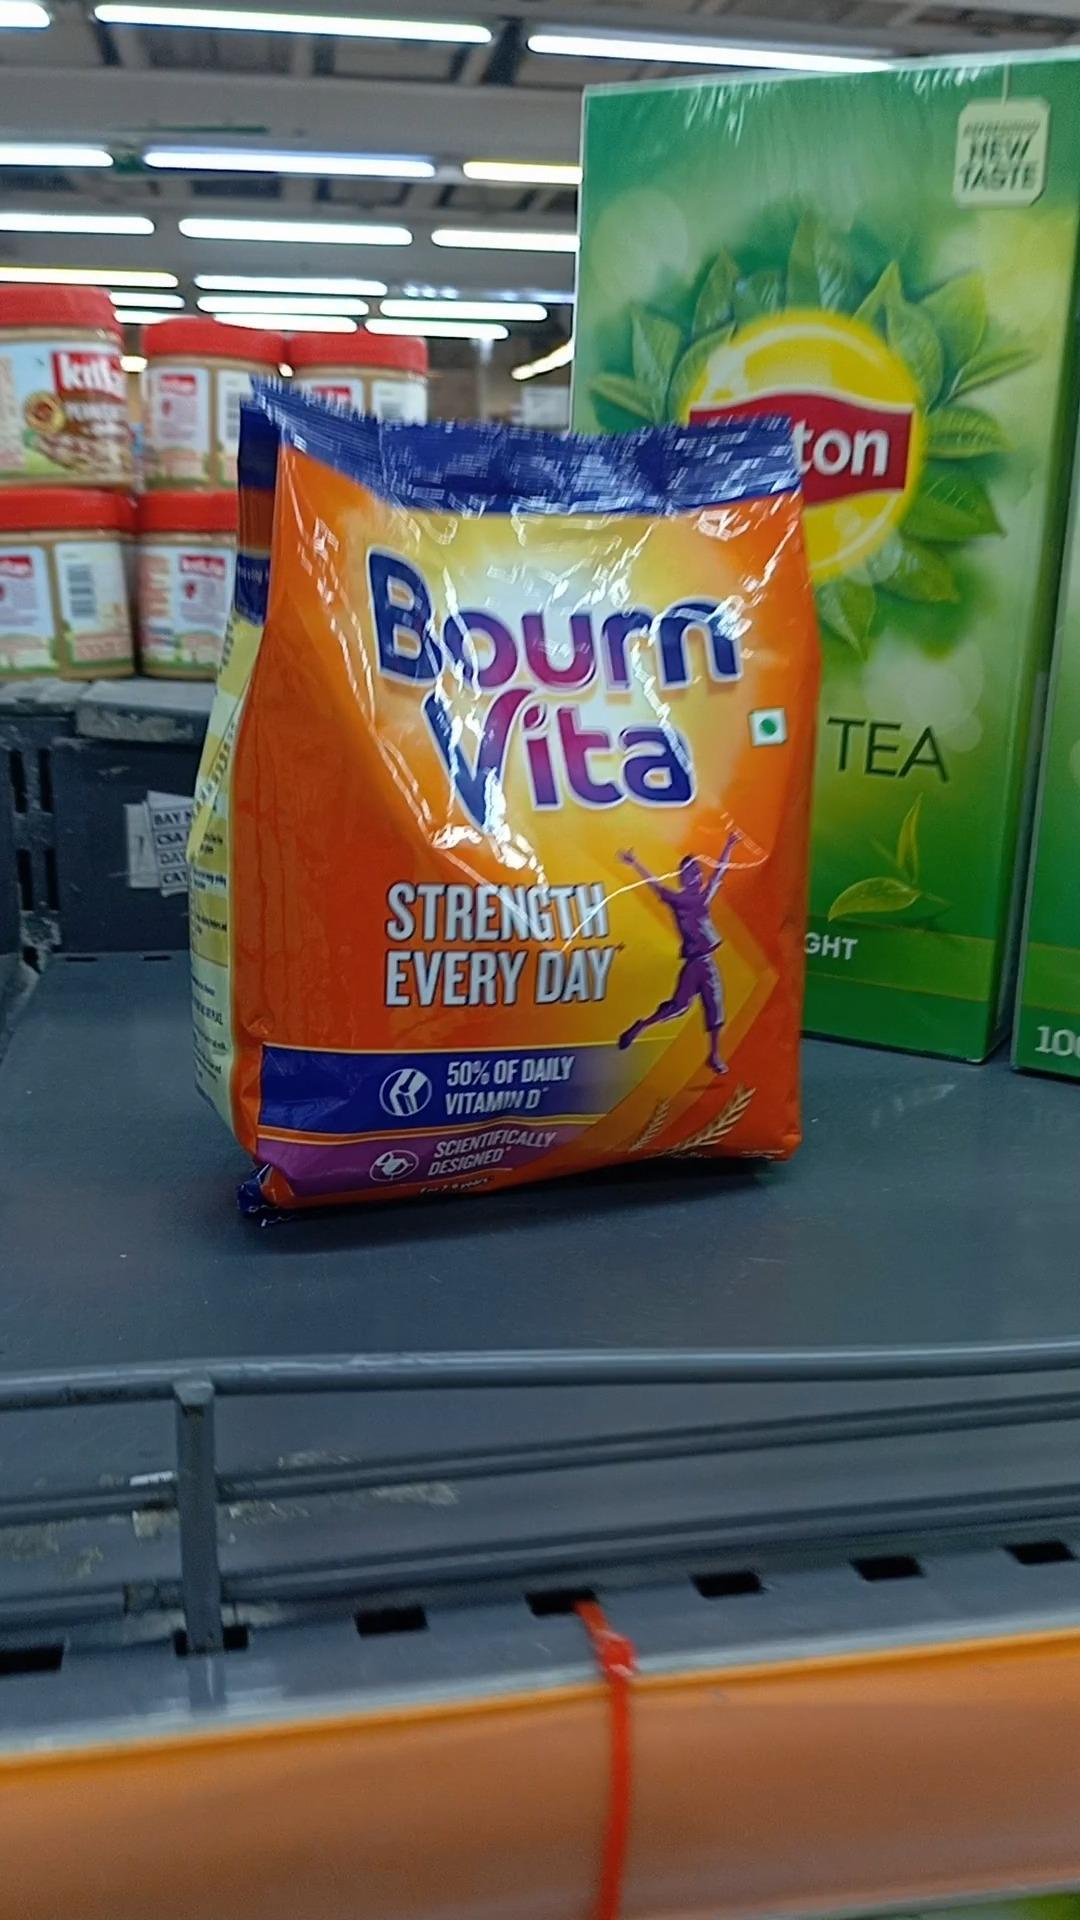BOURN_VITA_500_G_POUCH: (220, 375, 802, 1163)
